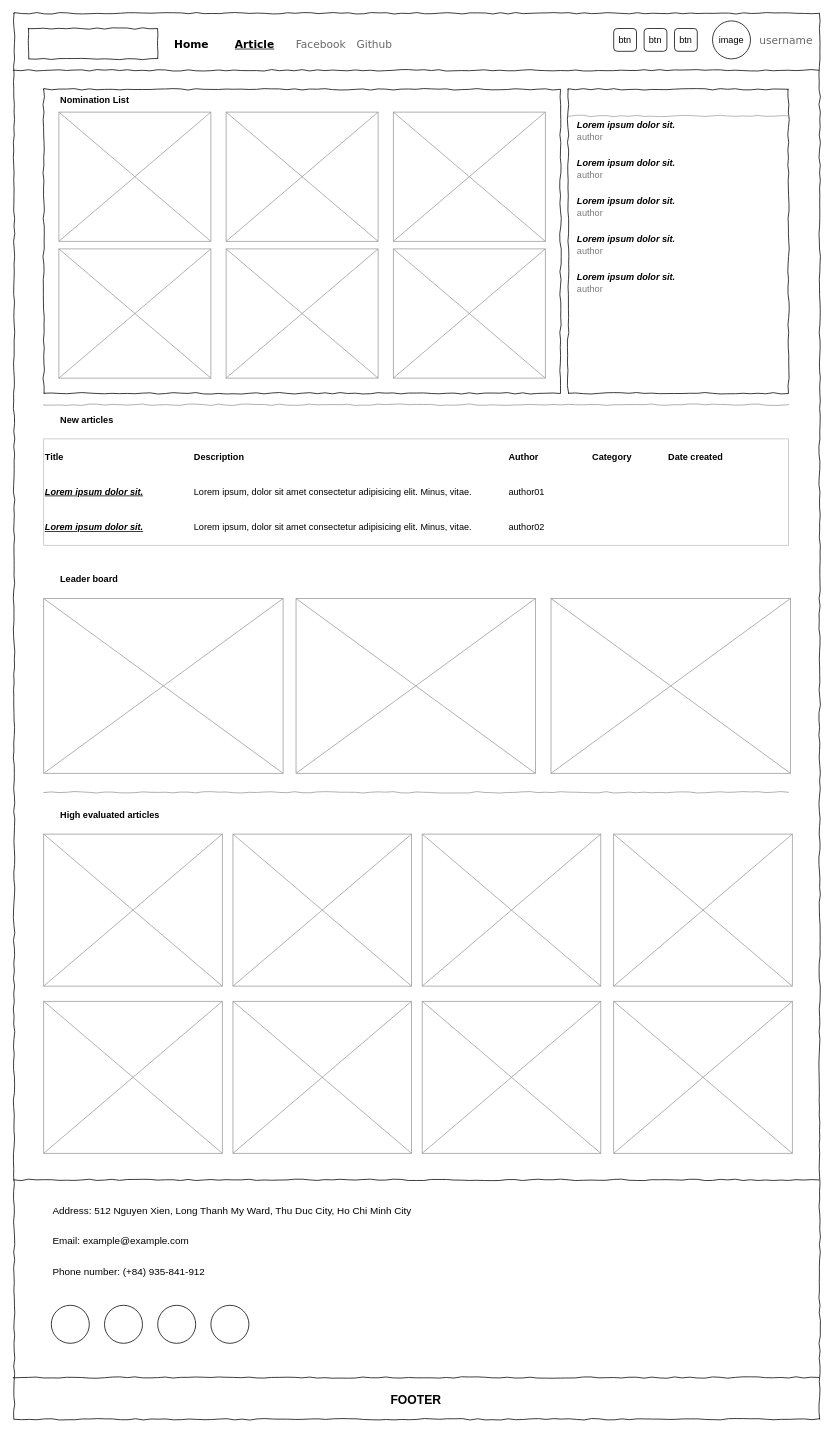
The diagram is 833 pixels wide and 1433 high, and some of its shapes have lost their labels. The box of each missing label's shape, as (x1, y1, x2, y2) in pixels:
LOGO: (28, 28, 158, 59)
Reading: (567, 89, 788, 393)
